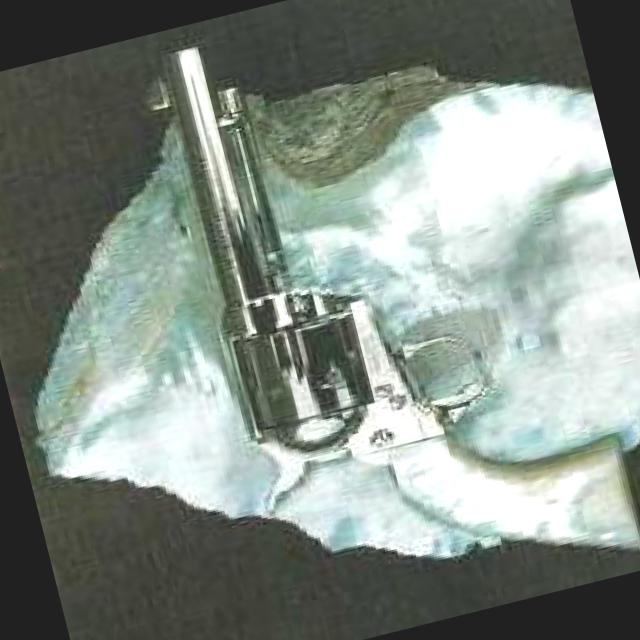handgun: (133, 0, 639, 639)
